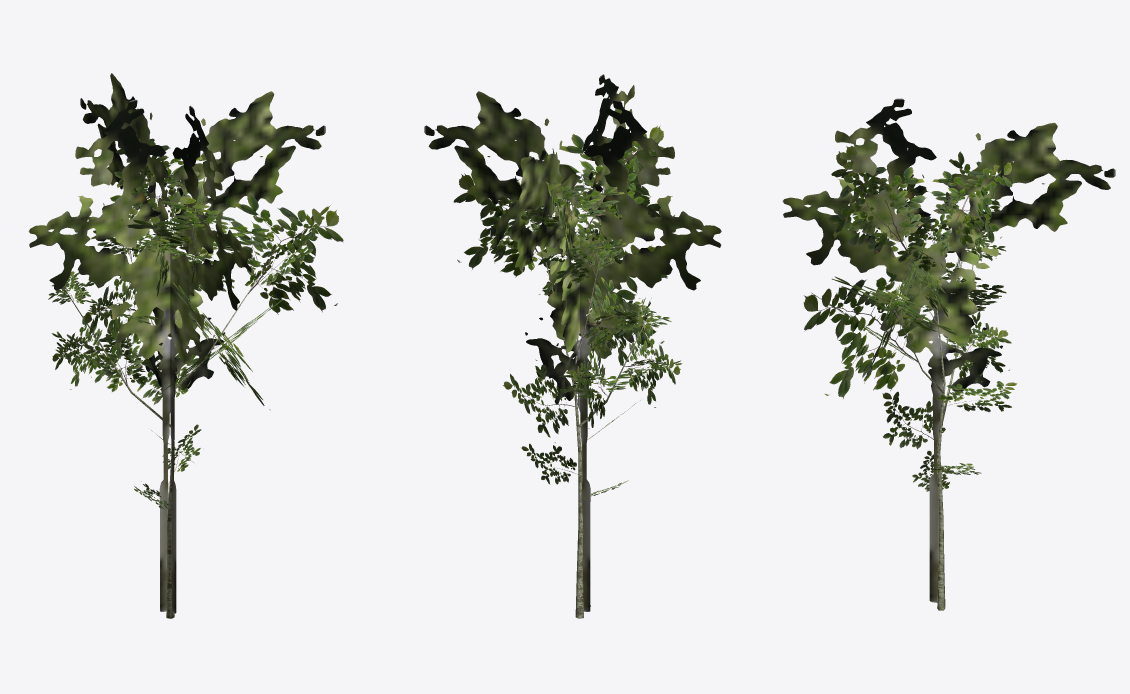
File: Tree-Beech4A.fbx
The picture shows the model from 3 angles, left to right: view 1: azimuth 30°, elevation 25°; view 2: azimuth 150°, elevation 25°; view 3: azimuth 270°, elevation 25°; orthographic projection. The views are drawn at different scales.
Visible parts, largest first — view 1: Billboard-BeechA, Tree-Beech4A_LOD0; view 2: Billboard-BeechA, Tree-Beech4A_LOD0; view 3: Billboard-BeechA, Tree-Beech4A_LOD0.
Boxes of the visible parts, left/top/right/bottom form: Billboard-BeechA: left=28, top=73, right=325, bottom=613; Tree-Beech4A_LOD0: left=48, top=133, right=343, bottom=618; Billboard-BeechA: left=424, top=74, right=721, bottom=611; Tree-Beech4A_LOD0: left=453, top=125, right=682, bottom=618; Billboard-BeechA: left=782, top=98, right=1115, bottom=602; Tree-Beech4A_LOD0: left=803, top=146, right=1017, bottom=610.
Size of what is drawn, in the model's own units: 718 by 1114 by 681.
